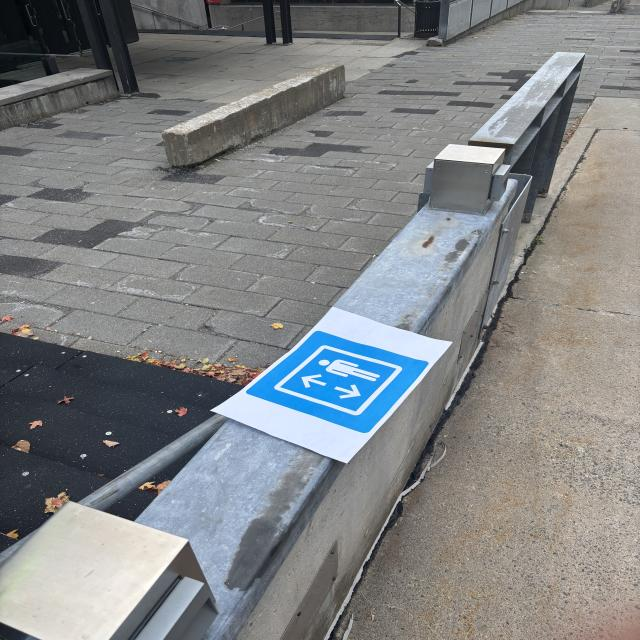elevator: (242, 330, 427, 436)
